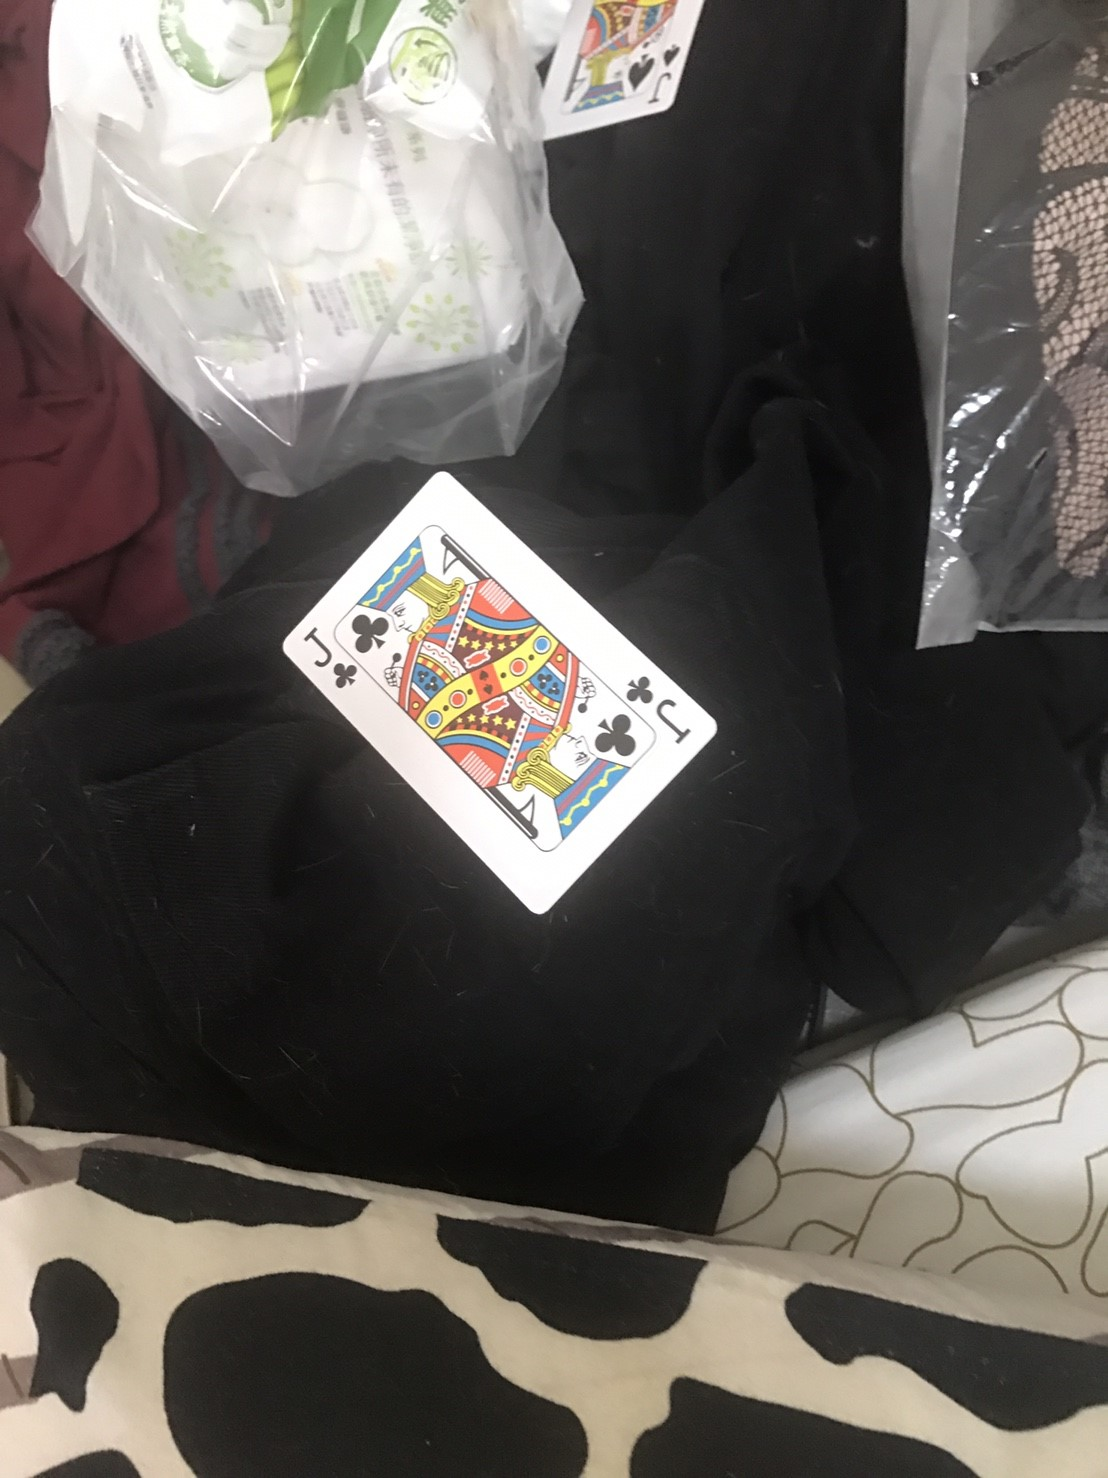clubs: (594, 716, 642, 761), (349, 612, 389, 658), (624, 668, 656, 702), (331, 659, 361, 688)
